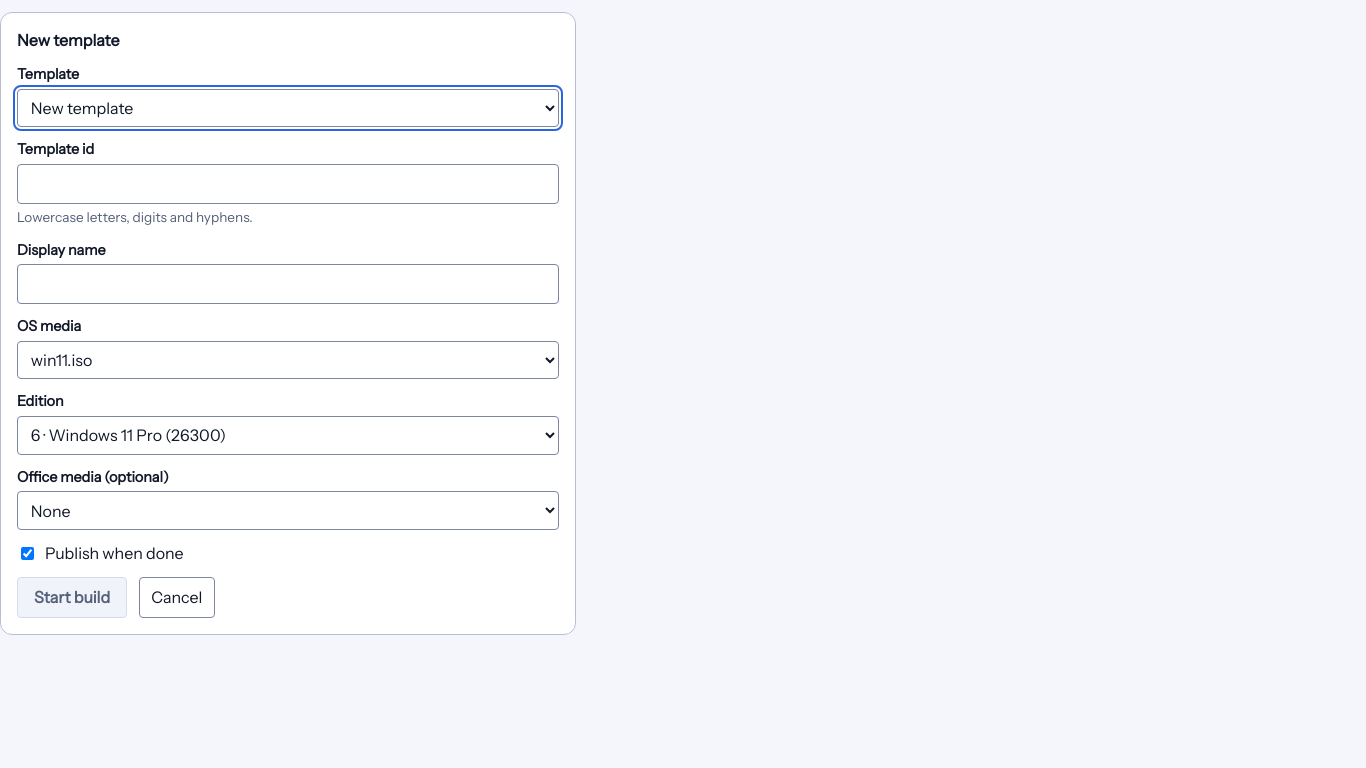
Test: NewTemplateDialog › shows the server reason inside the dialog
This screenshot has width=1366, height=768.
Expected: the dropdown labelled "OS media" is shown, [17,341,559,379]
Type "x" into the field labelled "Template id".
click(288, 184); type("x")  # box [17,164,559,204]
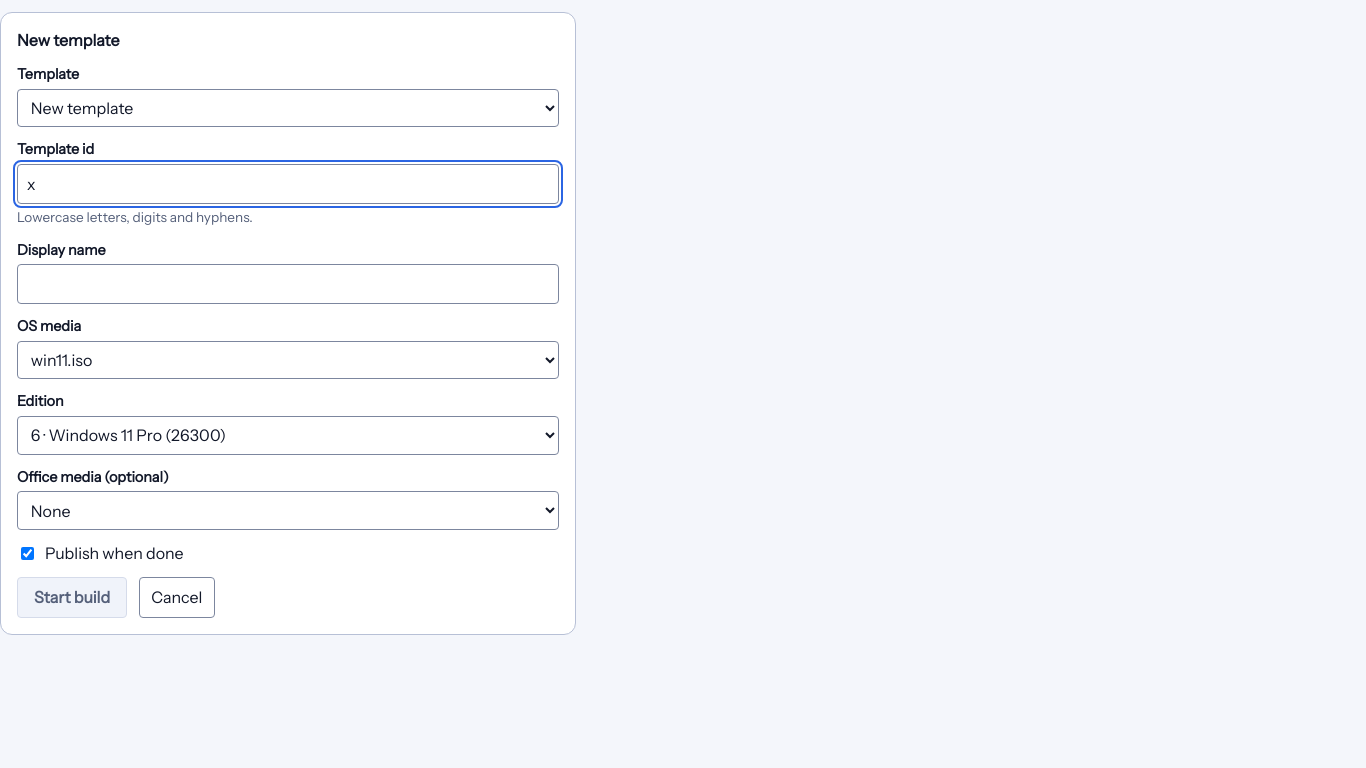
Type "X" into the field labelled "Display name".
click(288, 284); type("X")  # box [17,264,559,304]
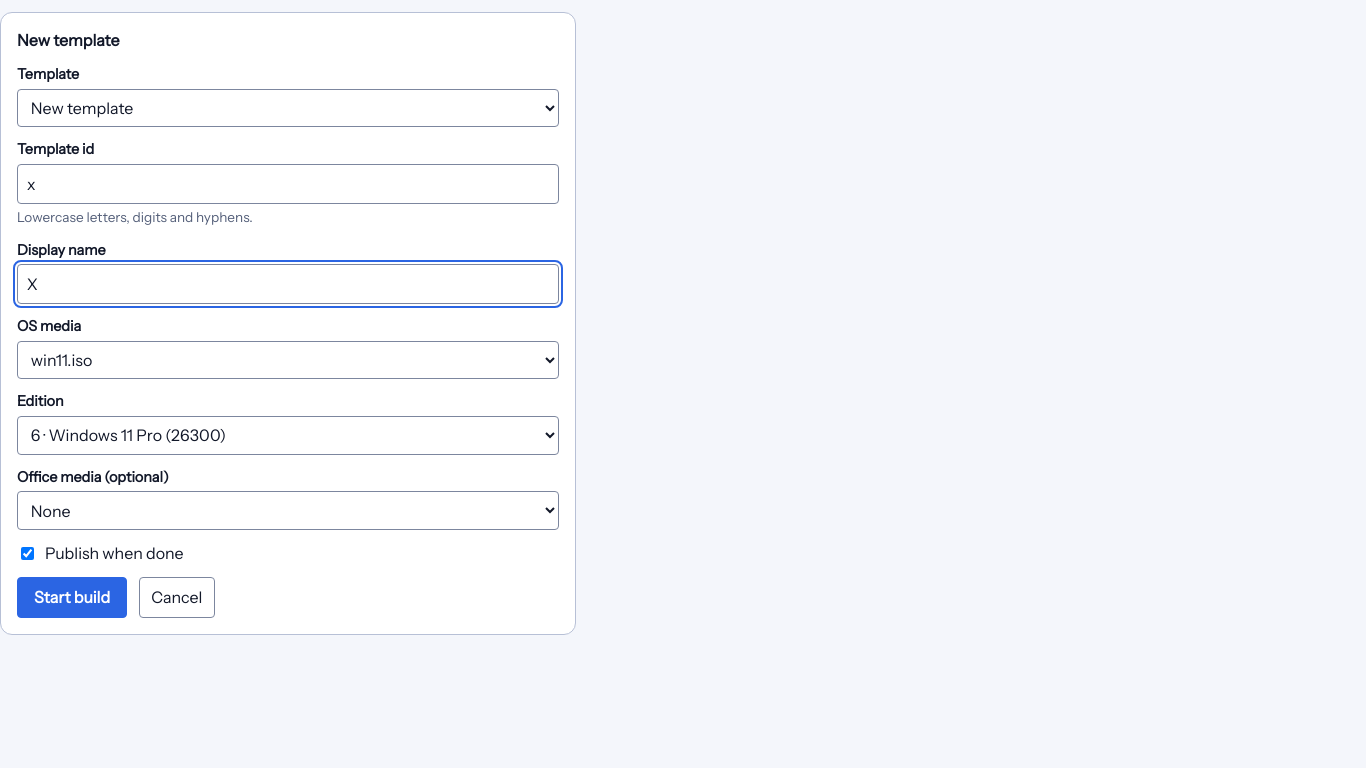
Click the button "Start build".
click(72, 598)  # box [17,577,127,618]
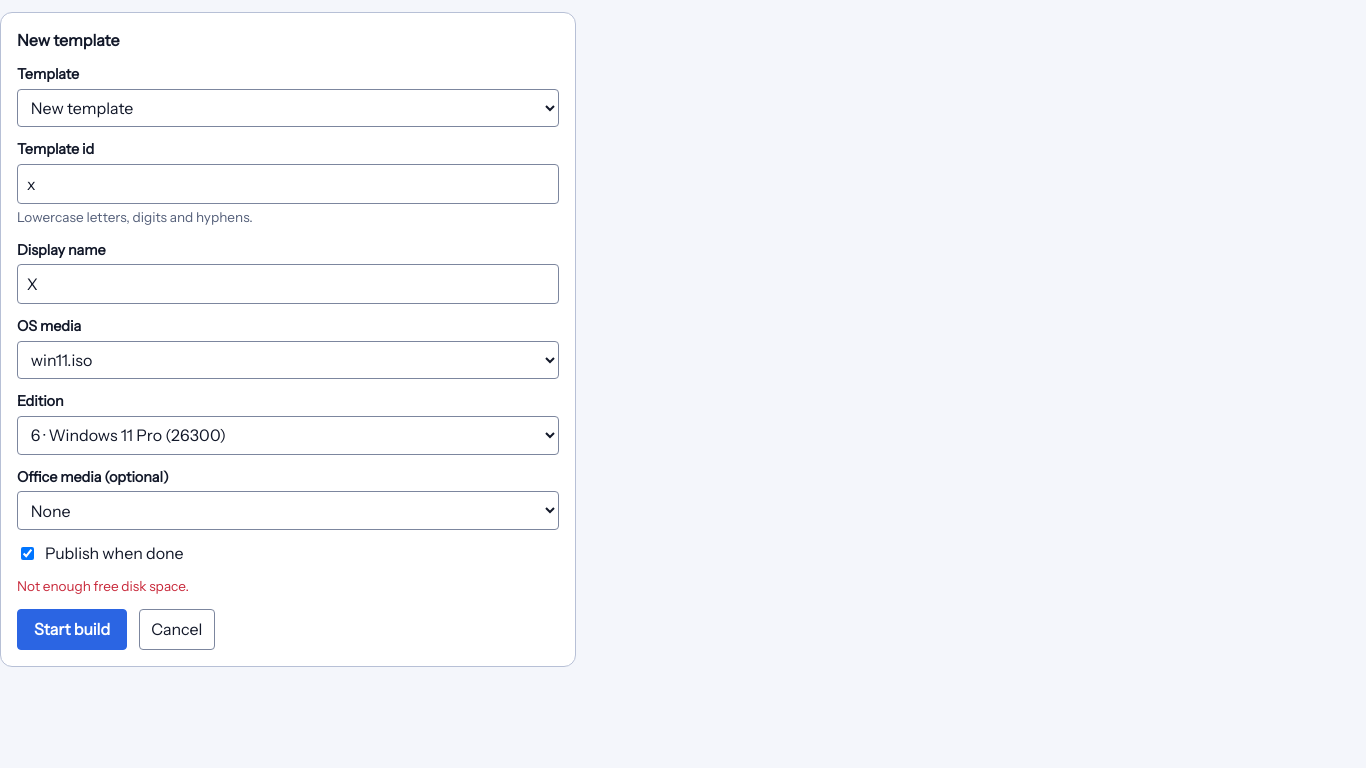
Expected: the message reads "Not enough free disk space.", [17,578,189,594]
